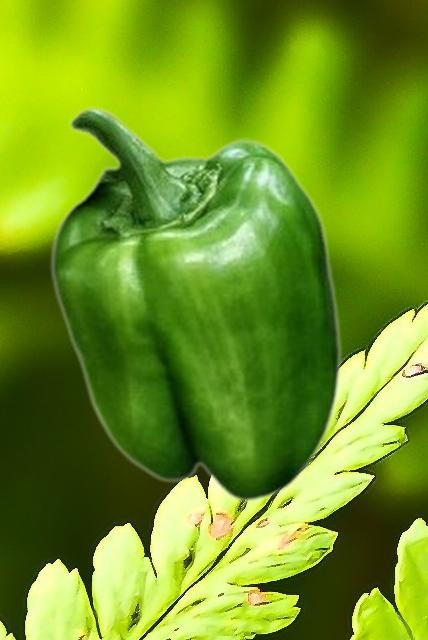bell_pepper: (49, 106, 342, 502)
